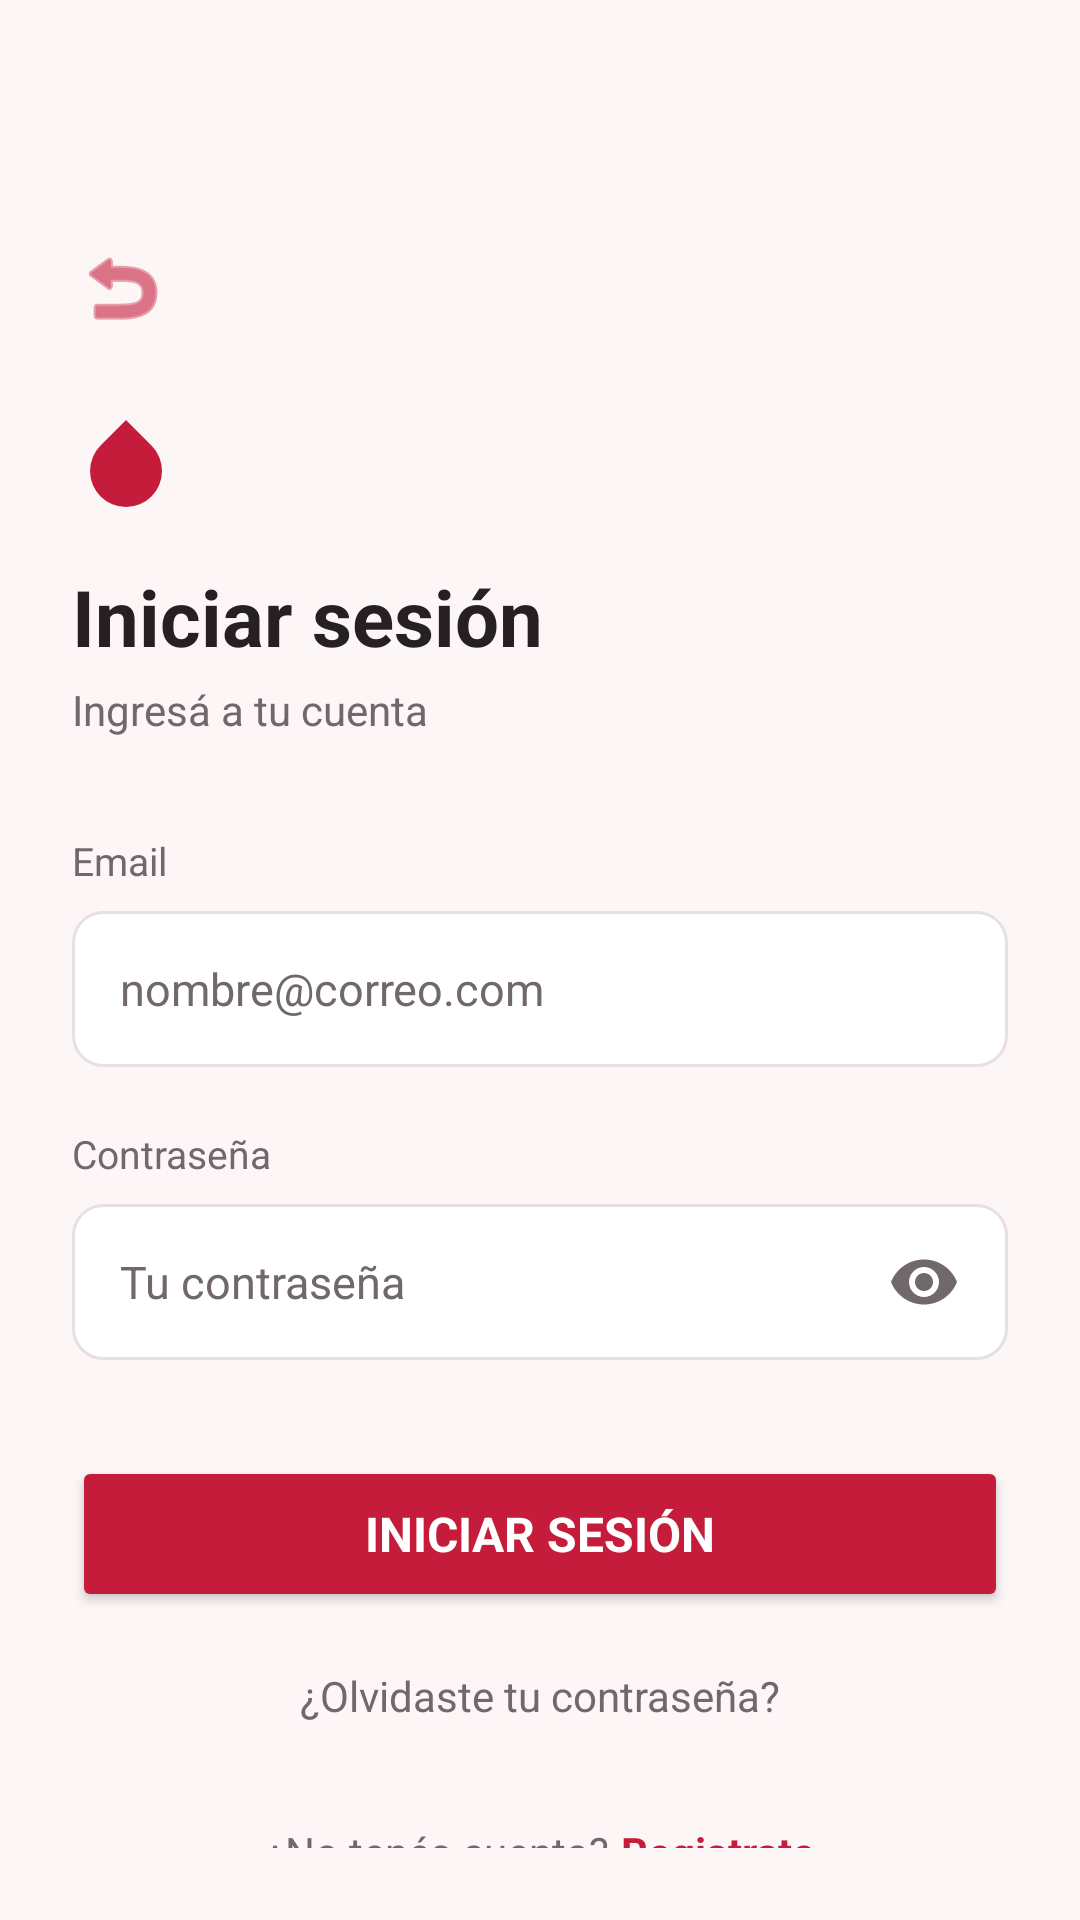

Point at icon controls on the screen. Image size 1080×1920, points as (x=x, y=y).
blood drop: (x=126, y=463)
Mostrar contraseña: (x=924, y=1282)
Volver: (x=123, y=288)
